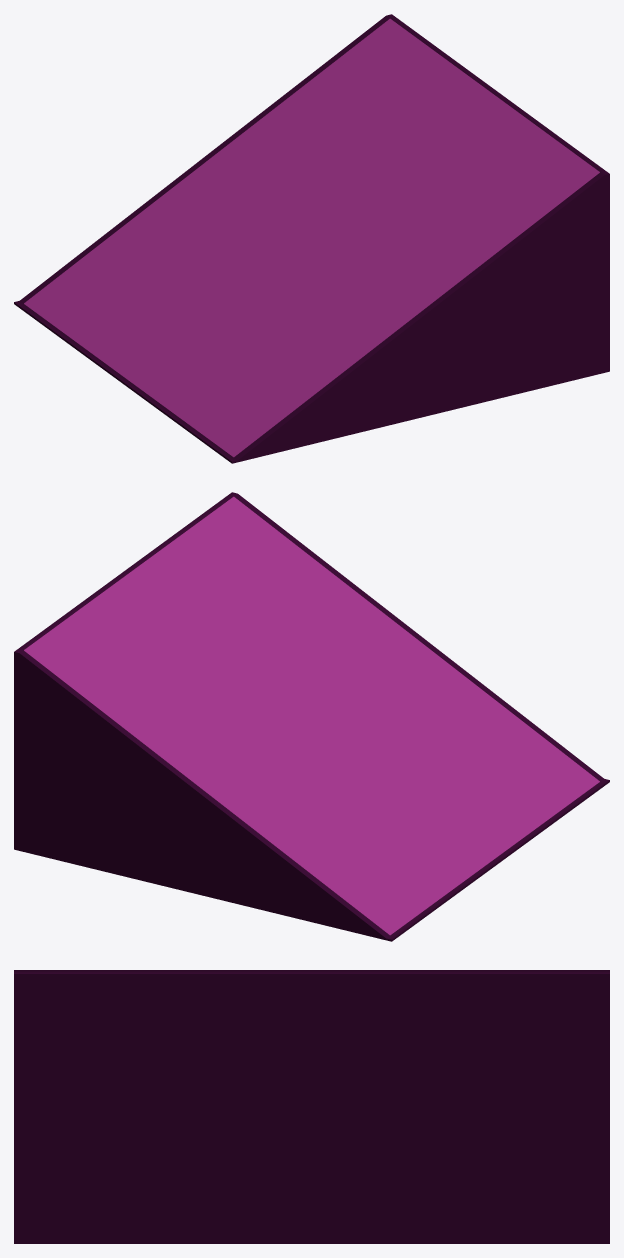
The model's file is Casilla 26.fbx.
3 views of the same model, one above another, from view 1: azimuth 30°, elevation 25°; view 2: azimuth 150°, elevation 25°; view 3: azimuth 270°, elevation 25° (orthographic). The views are drawn at different scales.
Visible parts, largest first — view 1: pCube2; view 2: pCube2; view 3: pCube2.
Part boxes in pixels (box(x1,y1,x2,y2)): pCube2: box(14, 14, 609, 463); pCube2: box(14, 492, 609, 941); pCube2: box(14, 970, 609, 1243).
Bounding box in the file's own units: 200 × 100 × 200.
